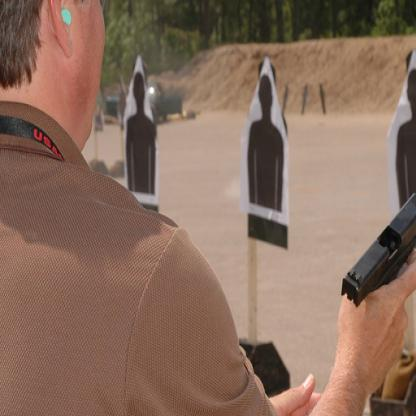gun: (339, 175, 415, 312)
